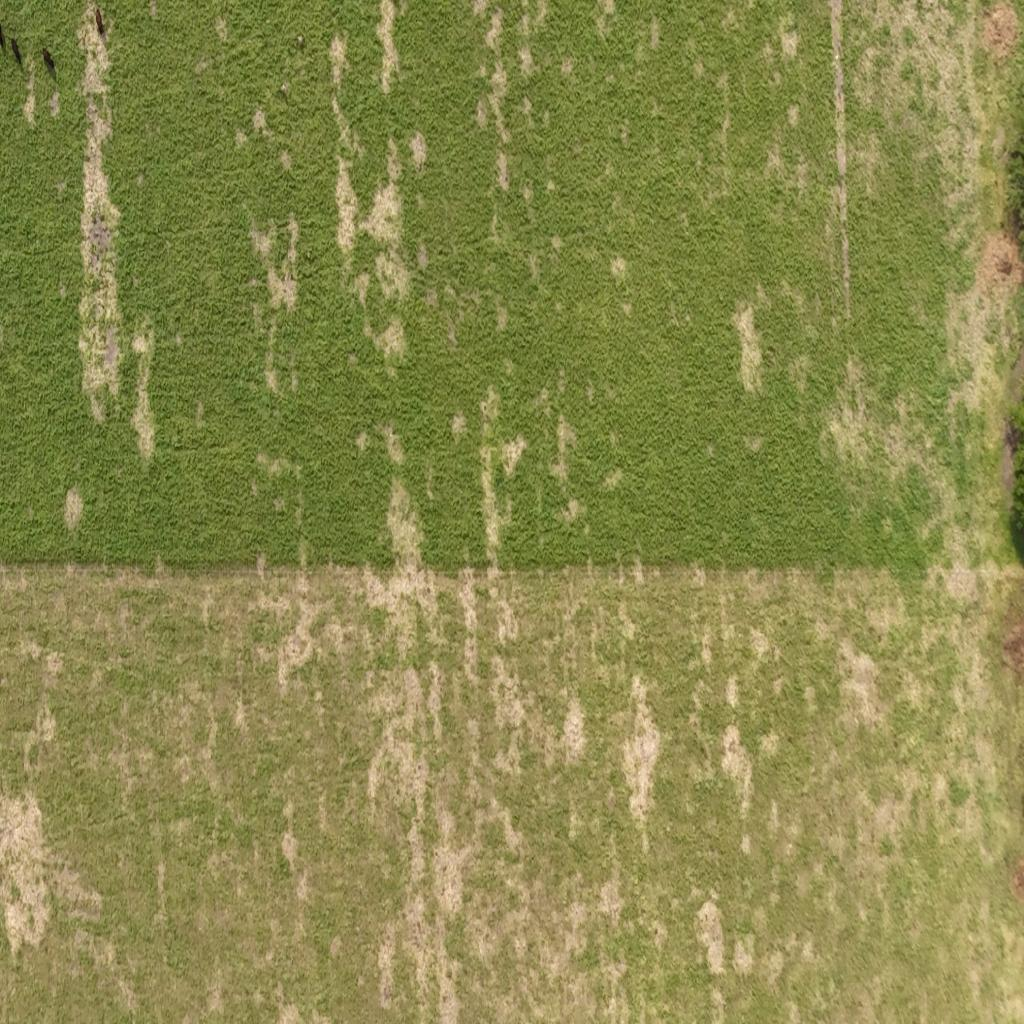cow: (42, 45, 58, 77), (9, 35, 23, 66), (94, 4, 104, 36)
